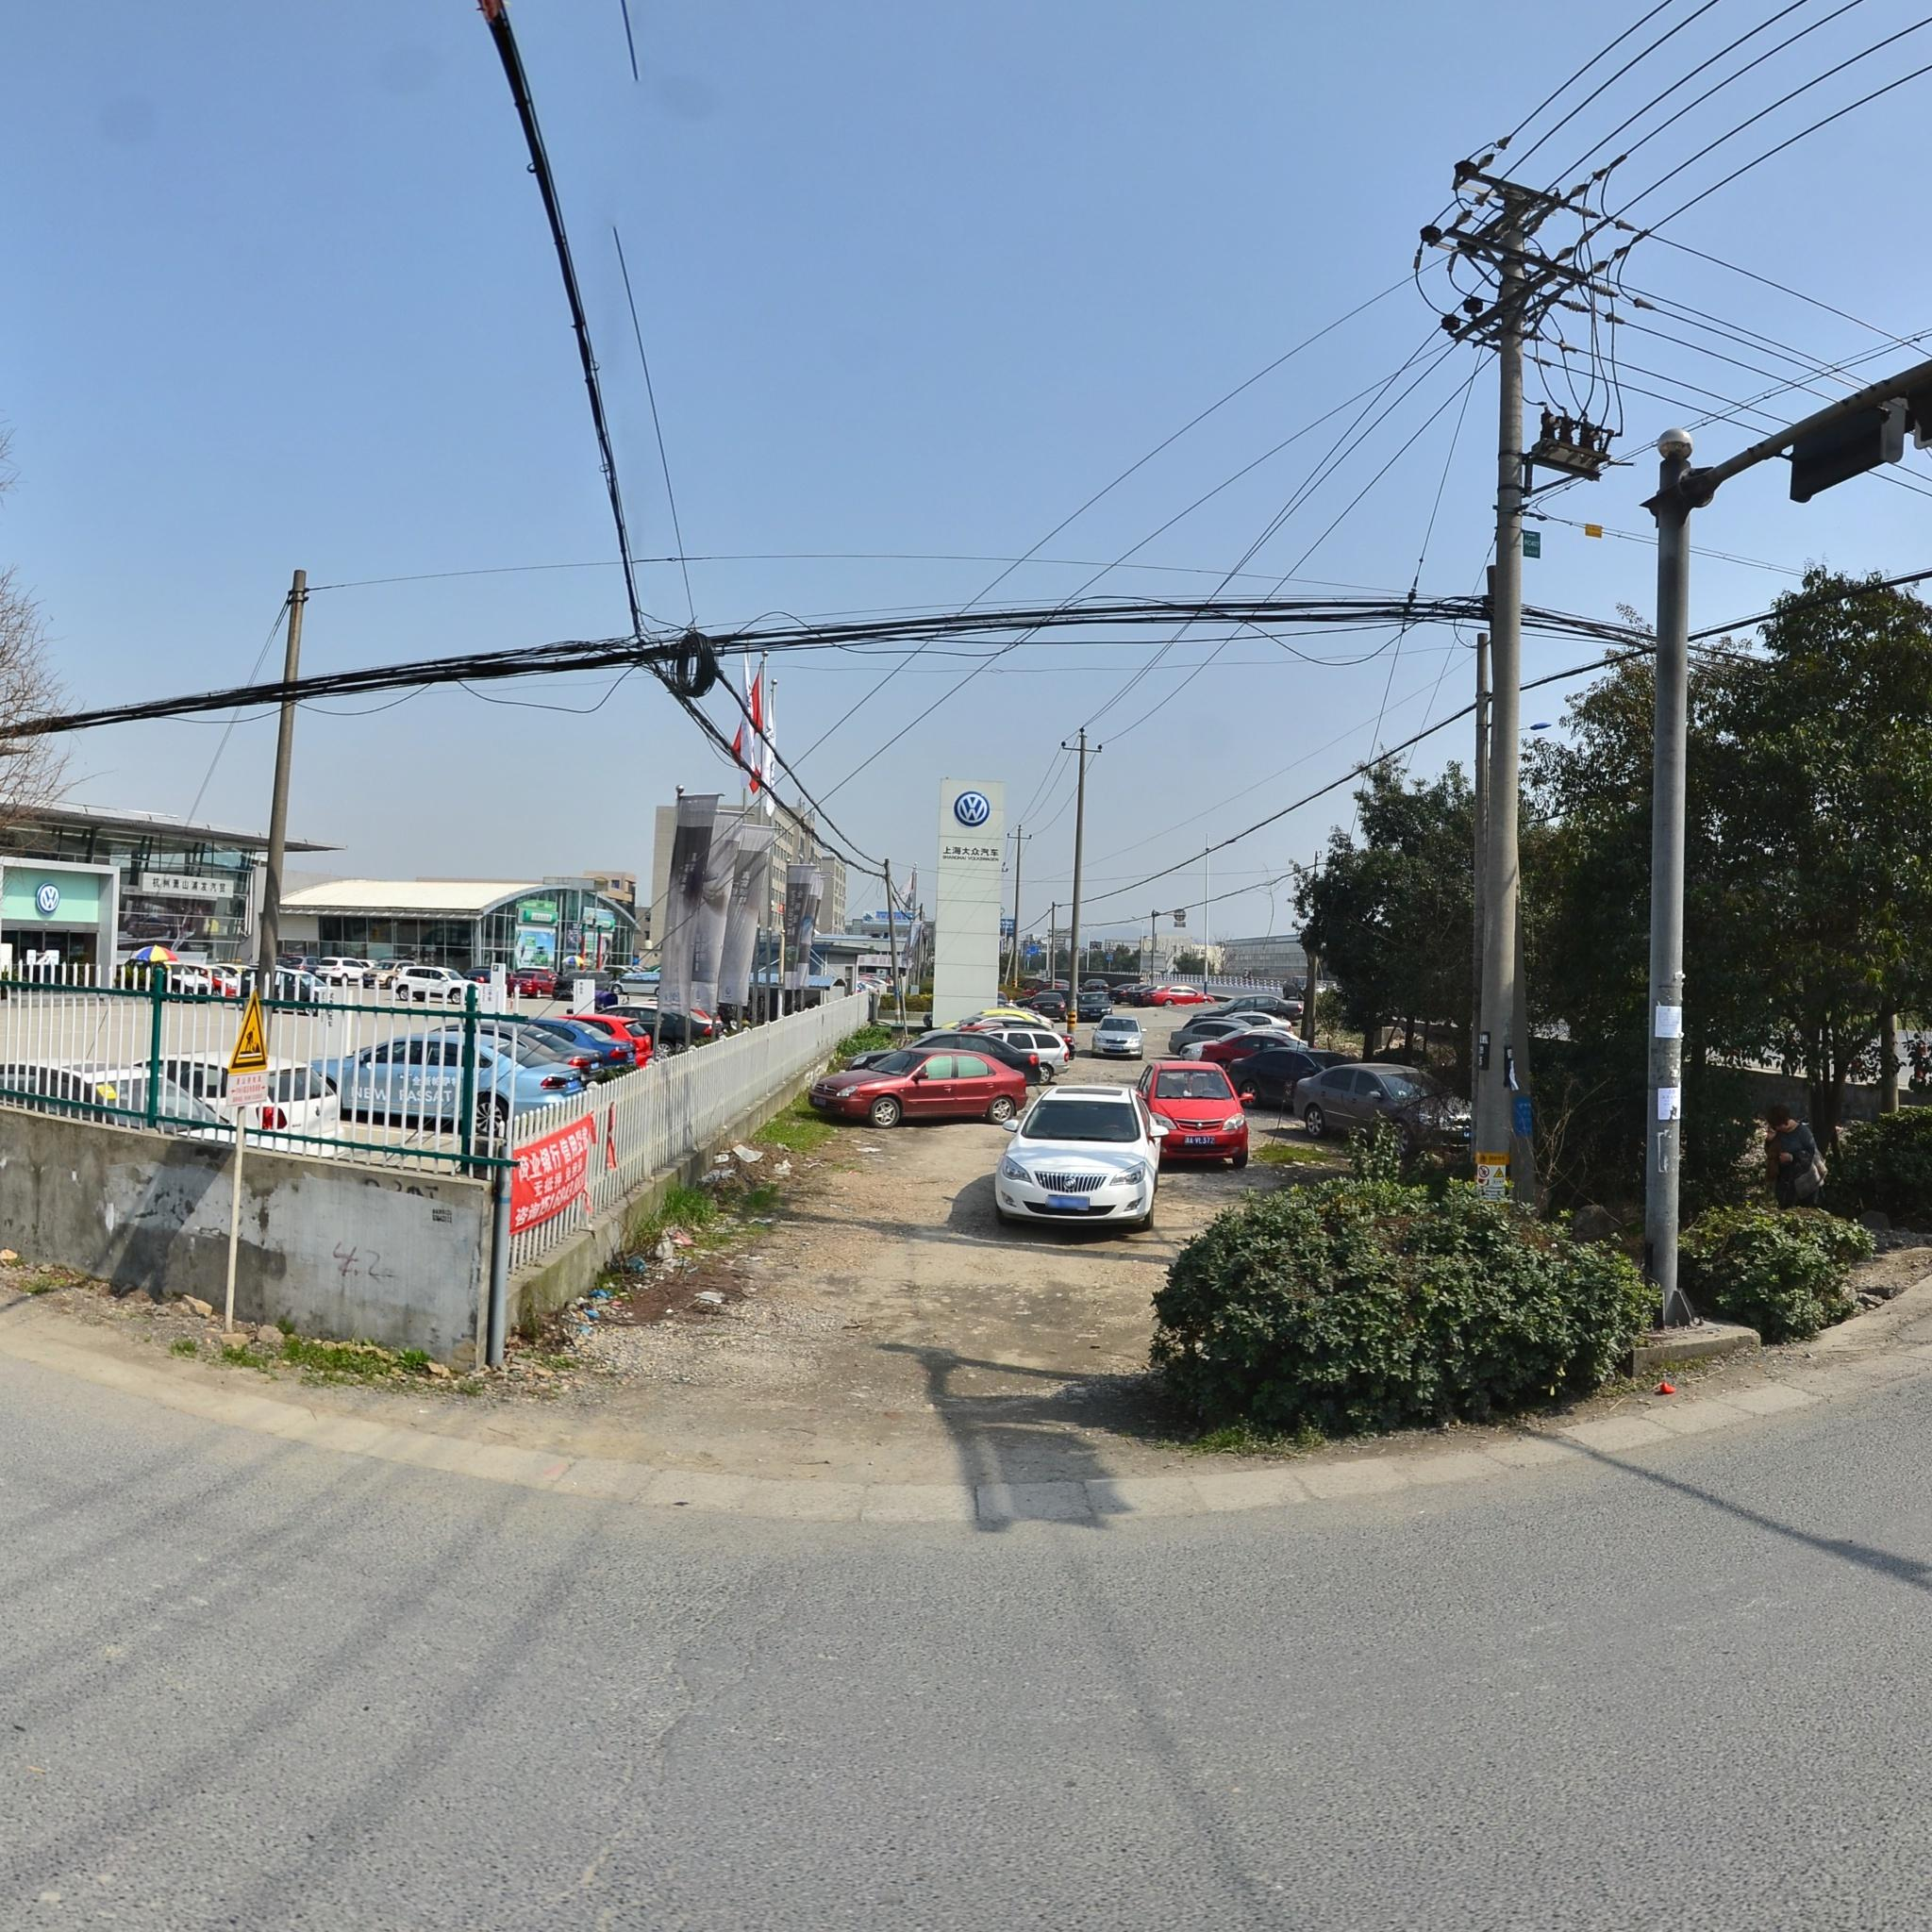w32: (228, 984, 281, 1076)
